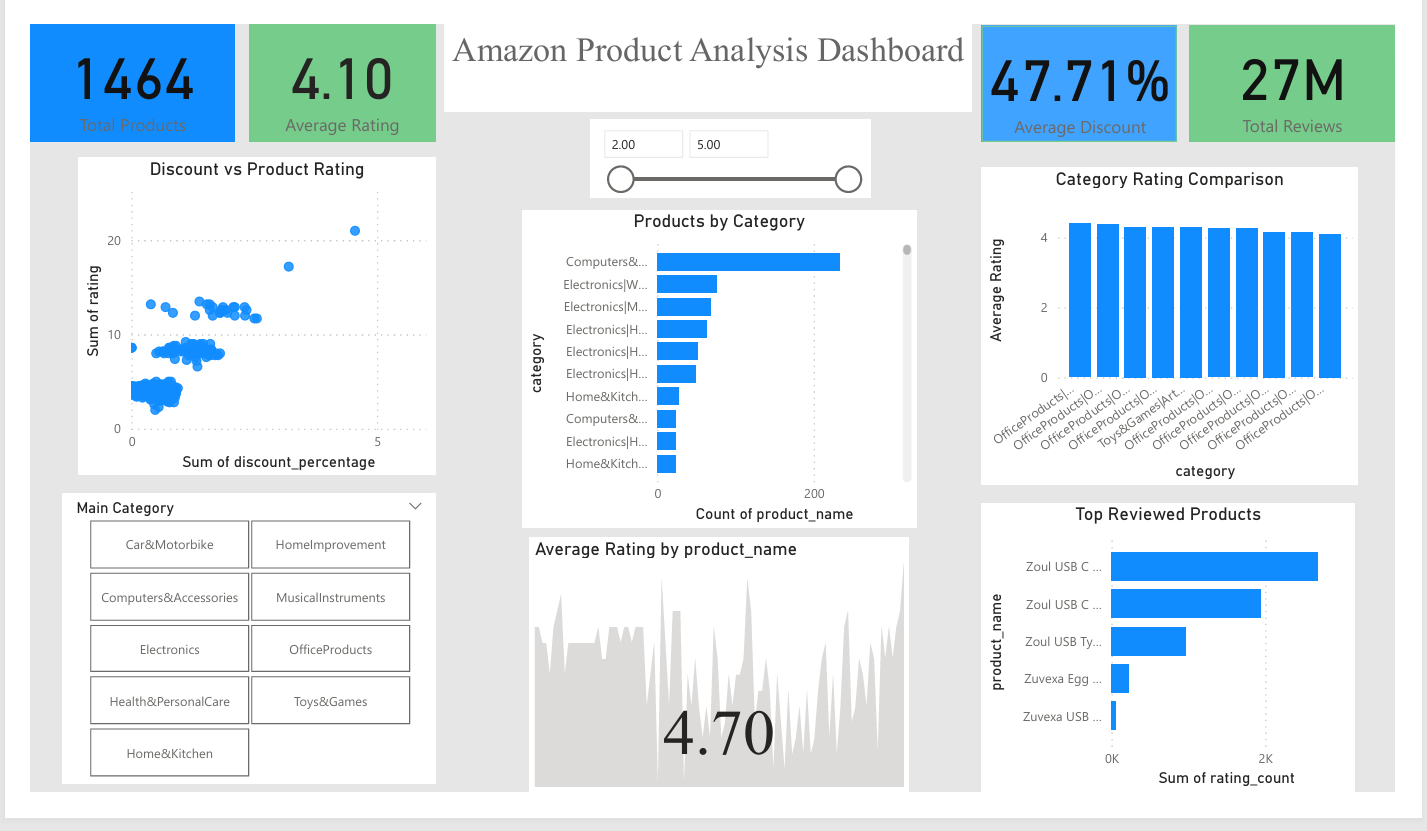

Layout of this report page (visuals, bound fields, positions):
{"tool":"powerbi","page":{"name":"Page 1","canvas":[1280,720],"ordinal":0},"visuals":[{"type":"card","fields":{"Values":["amazon.Average Rating"]},"box":[205,0,174.9,109.7],"z":0},{"type":"card","fields":{"Values":["amazon.Total Products"]},"box":[0,0,191.8,109.7],"z":1000},{"type":"card","fields":{"Values":["amazon.Total Reviews"]},"box":[1086.6,1.2,193,108.5],"z":2000},{"type":"card","fields":{"Values":["amazon.Average Discount"]},"box":[892.5,1.2,182.1,108.5],"z":3000},{"type":"barChart","title":"Products by Category","fields":{"Category":["amazon.category"],"Y":["CountNonNull(amazon.product_name)"]},"box":[460.7,173.7,370.3,297.9],"z":4000},{"type":"columnChart","title":"Category Rating Comparison","fields":{"Category":["amazon.category"],"Y":["amazon.Average Rating"]},"box":[892.5,133.9,352.2,297.9],"z":5000},{"type":"scatterChart","title":"Discount vs Product Rating","fields":{"X":["Sum(amazon.discount_percentage)"],"Y":["Sum(amazon.rating)"],"Category":["amazon.product_name"]},"box":[44.6,125.4,335.3,297.9],"z":6000},{"type":"slicer","fields":{"Values":["amazon.Main Category"]},"box":[30.2,440.2,349.7,271.4],"z":7000},{"type":"slicer","fields":{"Values":["amazon.rating"]},"box":[524.6,89.2,262.9,73.6],"z":8000},{"type":"barChart","title":"Top Reviewed Products","fields":{"Category":["amazon.product_name"],"Y":["Sum(amazon.rating_count)"]},"box":[892.5,448.6,349.7,271.4],"z":9000},{"type":"textbox","box":[388.3,0,494.5,82],"z":10000},{"type":"kpi","fields":{"TrendLine":["amazon.product_name"],"Indicator":["amazon.Average Rating"]},"box":[467.9,481.2,355.8,238.8],"z":11000}]}

Visuals, with their boxes on the page's 1280x720 design canvas (x1, y1, x2, y2). These are canvas units, not pixel positions in the 1427x831 screenshot, which may show the page scaled, cropped or inside an application window:
card - amazon.Average Rating: bbox(205, 0, 380, 110)
card - amazon.Total Products: bbox(0, 0, 192, 110)
card - amazon.Total Reviews: bbox(1087, 1, 1280, 110)
card - amazon.Average Discount: bbox(892, 1, 1075, 110)
"Products by Category" barChart: bbox(461, 174, 831, 472)
"Category Rating Comparison" columnChart: bbox(892, 134, 1245, 432)
"Discount vs Product Rating" scatterChart: bbox(45, 125, 380, 423)
slicer - amazon.Main Category: bbox(30, 440, 380, 712)
slicer - amazon.rating: bbox(525, 89, 788, 163)
"Top Reviewed Products" barChart: bbox(892, 449, 1242, 720)
textbox: bbox(388, 0, 883, 82)
kpi - amazon.product_name x amazon.Average Rating: bbox(468, 481, 824, 720)
